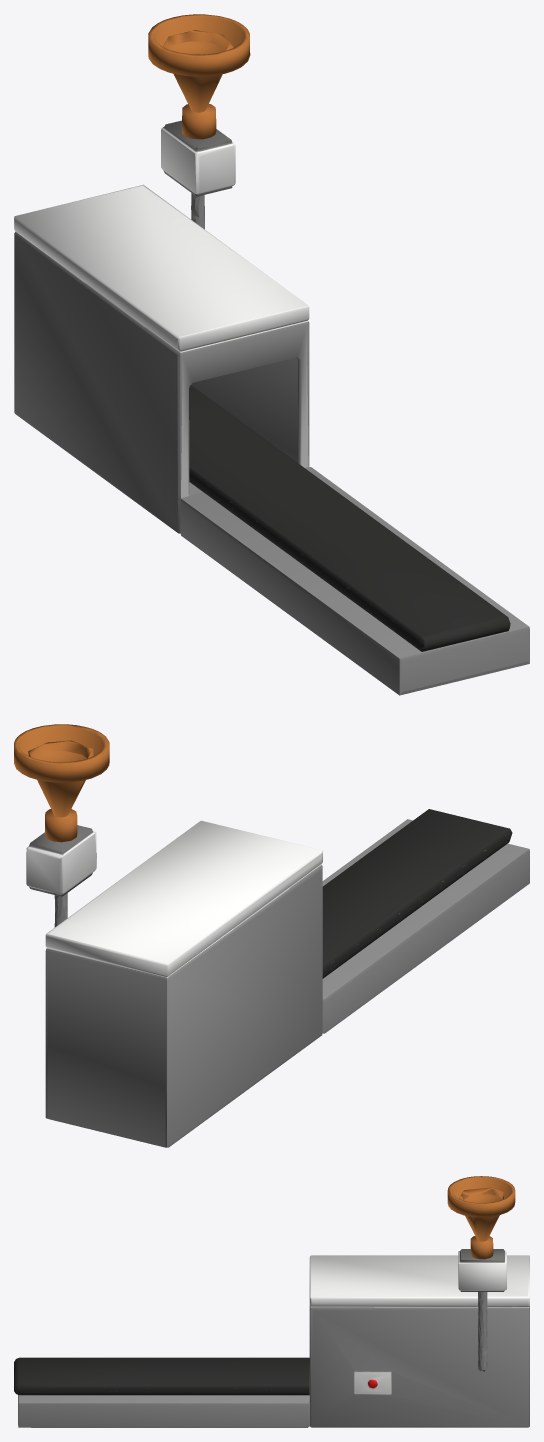
The model's file is LaufbandUndTrichter.obj.
The picture shows the model from 3 angles, top to bottom: view 1: azimuth 30°, elevation 25°; view 2: azimuth 150°, elevation 25°; view 3: azimuth 270°, elevation 25°; orthographic projection. The views are drawn at different scales.
Parts seen in each view (by area): view 1: 272926_23_05_11_15_02_16_0, 272926_23_05_11_15_02_16_2, 272984_23_05_11_15_10_24_0, 272984_23_05_11_15_10_24_1; view 2: 272926_23_05_11_15_02_16_0, 272926_23_05_11_15_02_16_2, 272984_23_05_11_15_10_24_0, 272984_23_05_11_15_10_24_1; view 3: 272926_23_05_11_15_02_16_0, 272926_23_05_11_15_02_16_2, 272984_23_05_11_15_10_24_0, 272984_23_05_11_15_10_24_1, 272926_23_05_11_15_02_16_4.
Part boxes in pixels (box(x1,y1,x2,y2)): 272926_23_05_11_15_02_16_0: box(14, 120, 529, 695); 272926_23_05_11_15_02_16_2: box(189, 385, 510, 651); 272984_23_05_11_15_10_24_0: box(148, 14, 250, 139); 272984_23_05_11_15_10_24_1: box(163, 30, 233, 112); 272926_23_05_11_15_02_16_0: box(26, 819, 529, 1147); 272926_23_05_11_15_02_16_2: box(322, 809, 512, 978); 272984_23_05_11_15_10_24_0: box(14, 724, 109, 842); 272984_23_05_11_15_10_24_1: box(28, 740, 93, 817); 272926_23_05_11_15_02_16_0: box(18, 1249, 529, 1427); 272926_23_05_11_15_02_16_2: box(14, 1357, 309, 1395); 272984_23_05_11_15_10_24_0: box(447, 1176, 515, 1259); 272984_23_05_11_15_10_24_1: box(459, 1187, 504, 1241); 272926_23_05_11_15_02_16_4: box(478, 1292, 487, 1371).
Size of the model in its own units: 19.61 by 35.6 by 68.25.
Materials: 5 (5 with a texture image).
